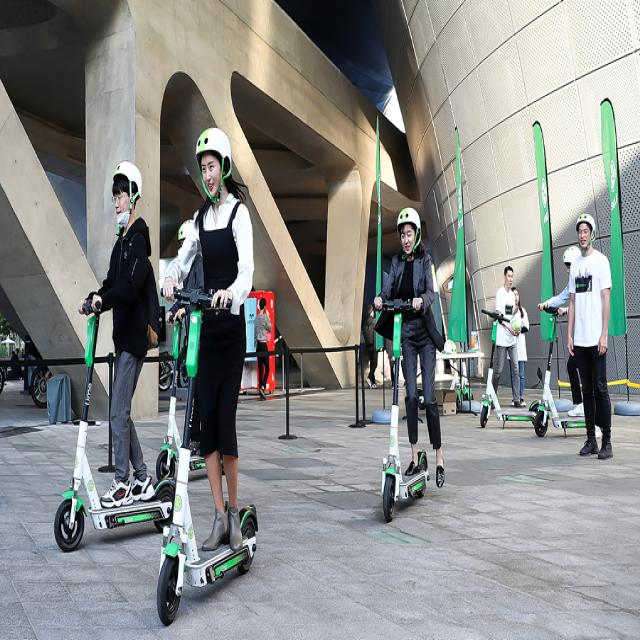helmet: (156, 98, 284, 618), (28, 124, 188, 539), (350, 200, 455, 558), (526, 160, 630, 507)
